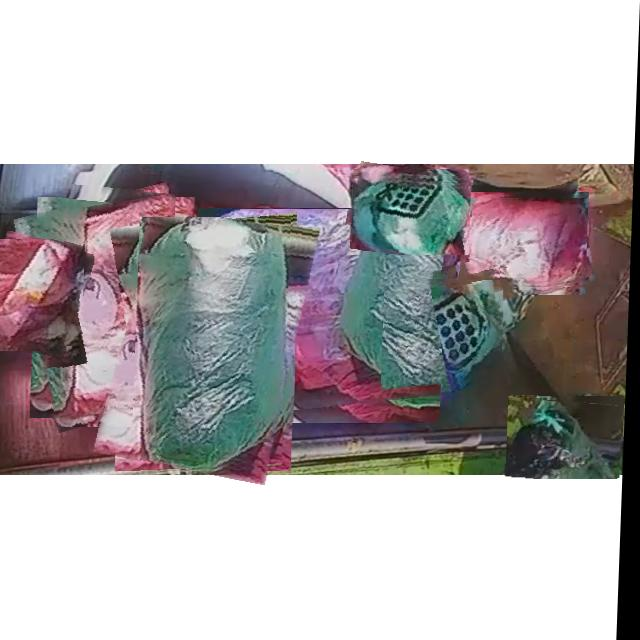general_trashbag: (141, 217, 289, 470), (387, 280, 506, 383), (354, 177, 472, 254), (509, 399, 621, 478)
other_trashbag: (199, 209, 444, 405), (57, 191, 177, 426), (459, 199, 589, 286), (0, 239, 86, 346), (350, 224, 459, 289)
